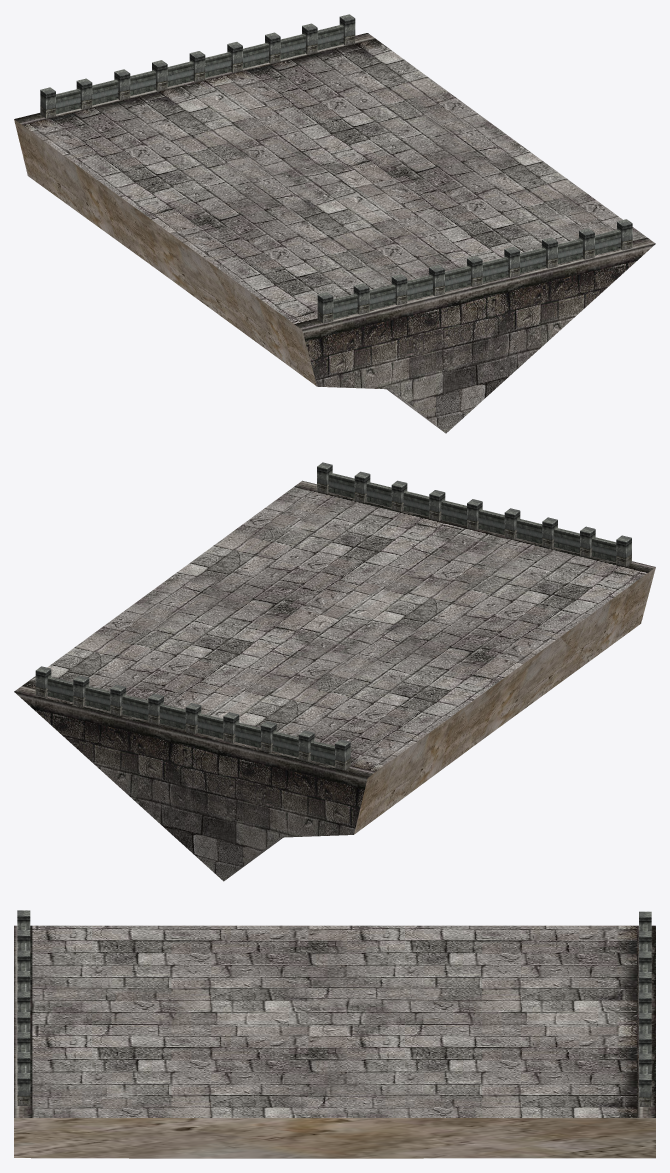
Rendered from bridge02.FBX.
3 views of the same model, one above another, from view 1: azimuth 30°, elevation 25°; view 2: azimuth 150°, elevation 25°; view 3: azimuth 270°, elevation 25° (orthographic). The views are drawn at different scales.
Visible parts, largest first — view 1: bridge0205, bridge0204, bridge0207, bridge0201, bridge0202; view 2: bridge0207, bridge0204, bridge0205, bridge0201, bridge0202; view 3: bridge0204, bridge0207, bridge0205, bridge0202, bridge0201.
Boxes of the visible parts, <box> form: bridge0205: <box>206,173,655,433</box>; bridge0204: <box>110,103,559,346</box>; bridge0207: <box>14,33,463,263</box>; bridge0201: <box>40,14,355,118</box>; bridge0202: <box>317,219,632,323</box>; bridge0207: <box>14,621,474,881</box>; bridge0204: <box>110,551,586,745</box>; bridge0205: <box>207,480,655,662</box>; bridge0201: <box>35,666,350,770</box>; bridge0202: <box>317,462,631,566</box>; bridge0204: <box>152,925,441,1158</box>; bridge0207: <box>383,925,655,1158</box>; bridge0205: <box>14,925,227,1158</box>; bridge0202: <box>17,910,30,1105</box>; bridge0201: <box>639,911,651,1106</box>.
Bounding box in the file's own units: 283 × 125 × 400.
Materials: 4 (4 with a texture image).
